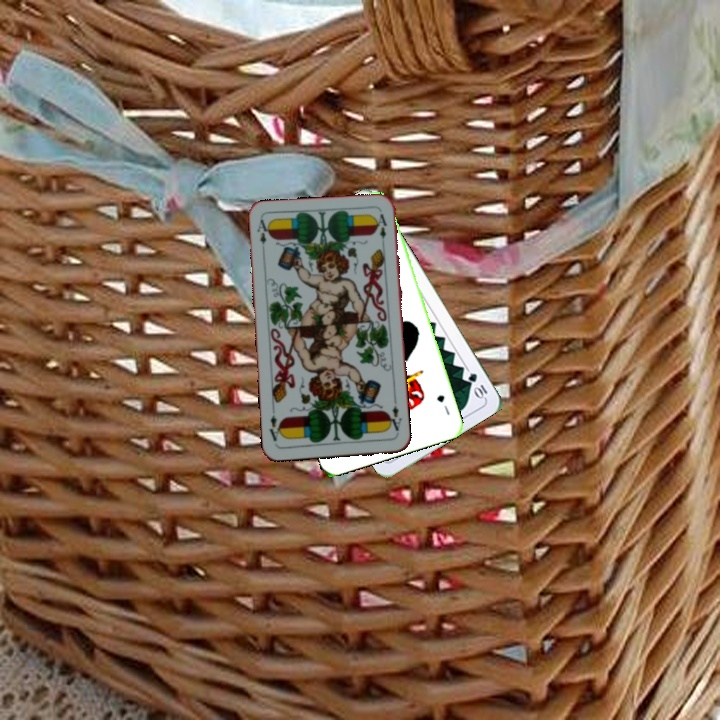EA: (253, 216, 272, 256), (384, 401, 404, 437)
G10: (464, 369, 490, 401)
GU: (432, 391, 452, 417)
